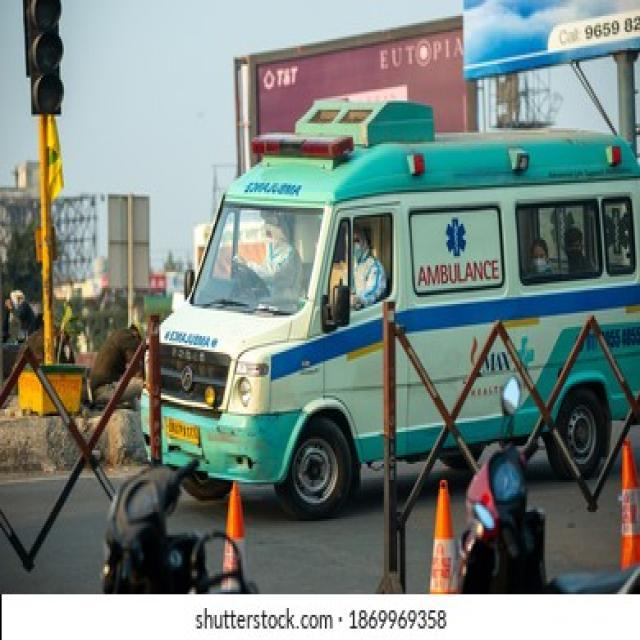ambulance: (144, 98, 640, 490)
